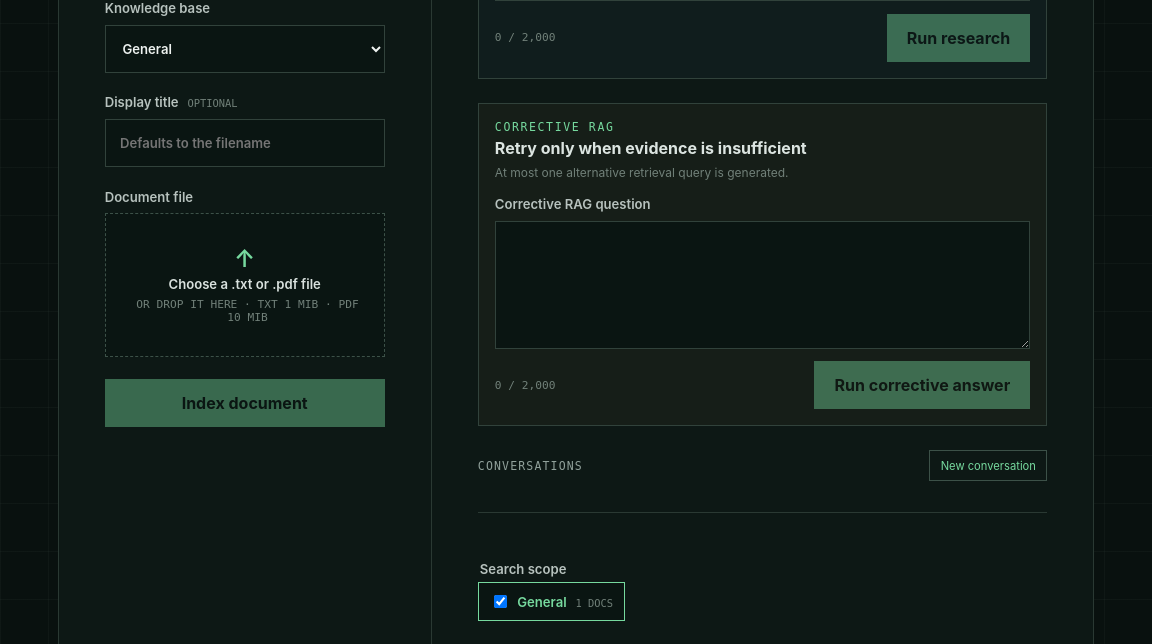
Scenario: shows when corrective retrieval changed the query
The image size is (1152, 644).
(page scrolled)
Type "Why does it matter?" into the text box labelled "Corrective RAG question". click: x=763, y=284
box: [495, 220, 1030, 348]
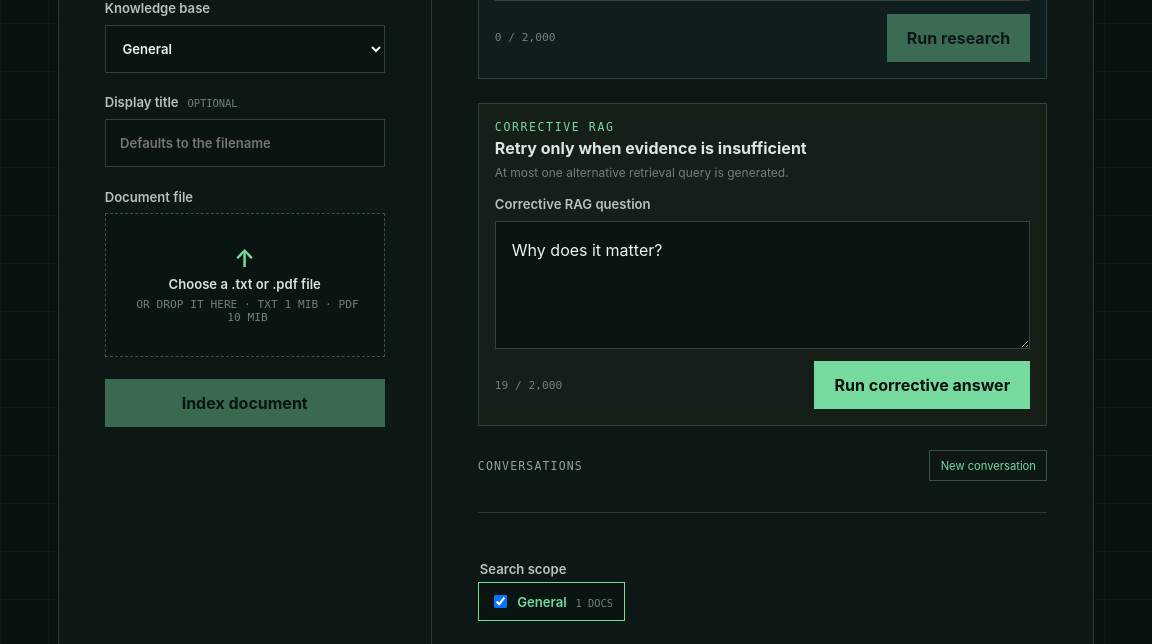
Click the button "Run corrective answer". click: x=922, y=385
box: [814, 361, 1030, 409]
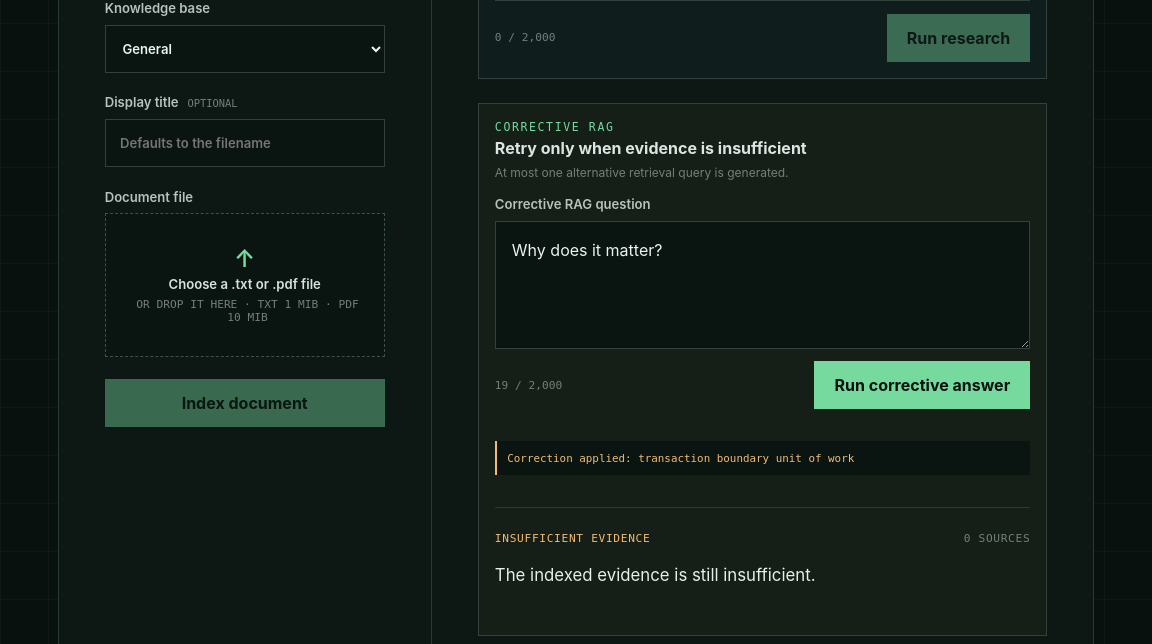
Now the text "Correction applied: transaction boundary unit of work" is shown, box [495, 441, 1030, 475]
